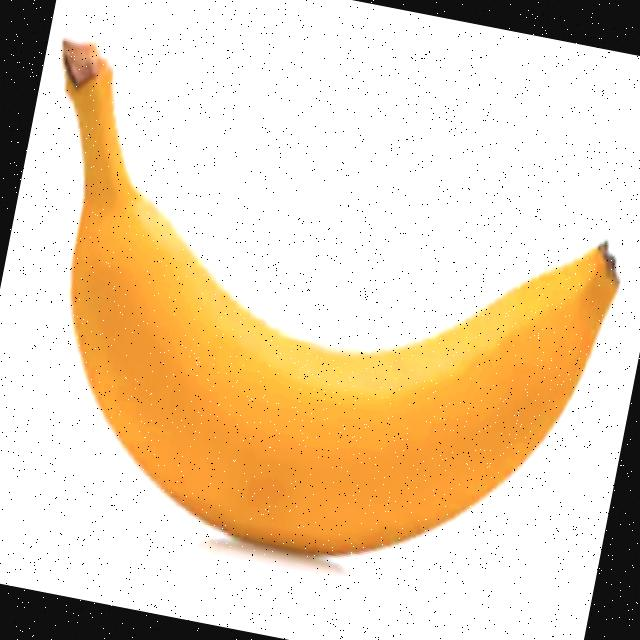Ripe: (0, 16, 640, 622)
